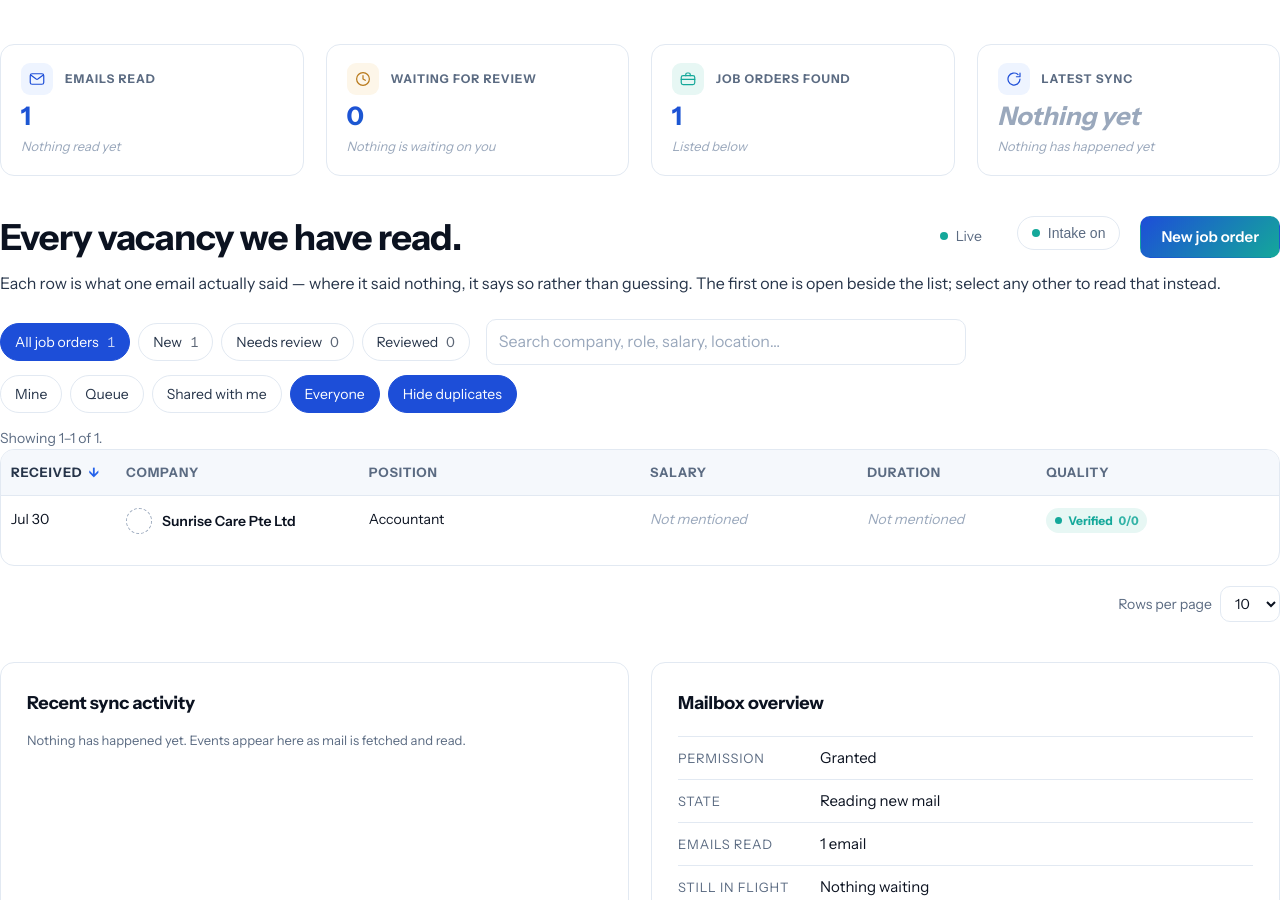
Test: linking a job order to its client › shows who the job order went to after linking
Click the button with aria-label "Show details for Sunrise Care Pte Ltd" at (229, 521), box left=162, top=510, right=296, bottom=532
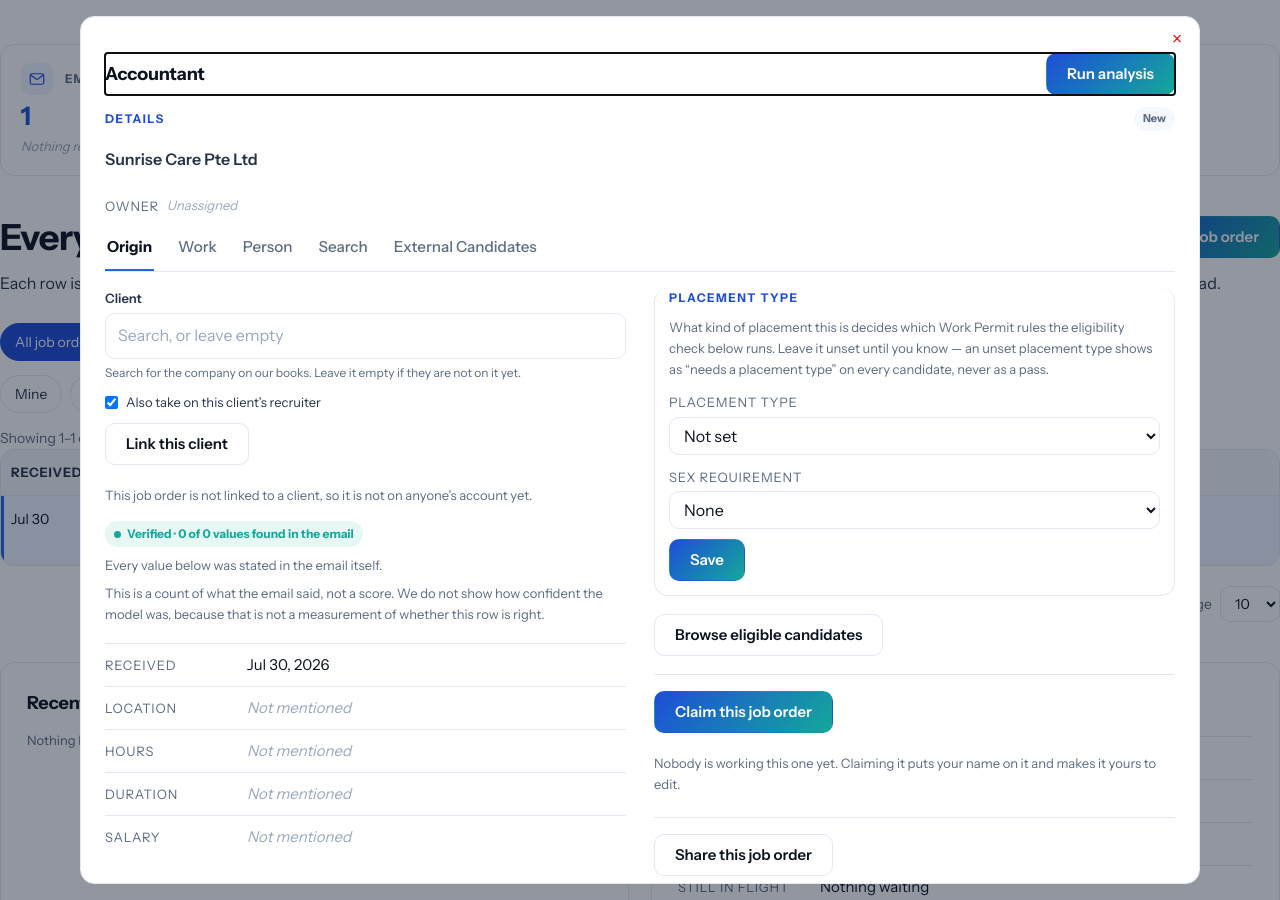
Type "sunrise" into the dropdown labelled "Client" at (366, 336), box left=105, top=313, right=626, bottom=359
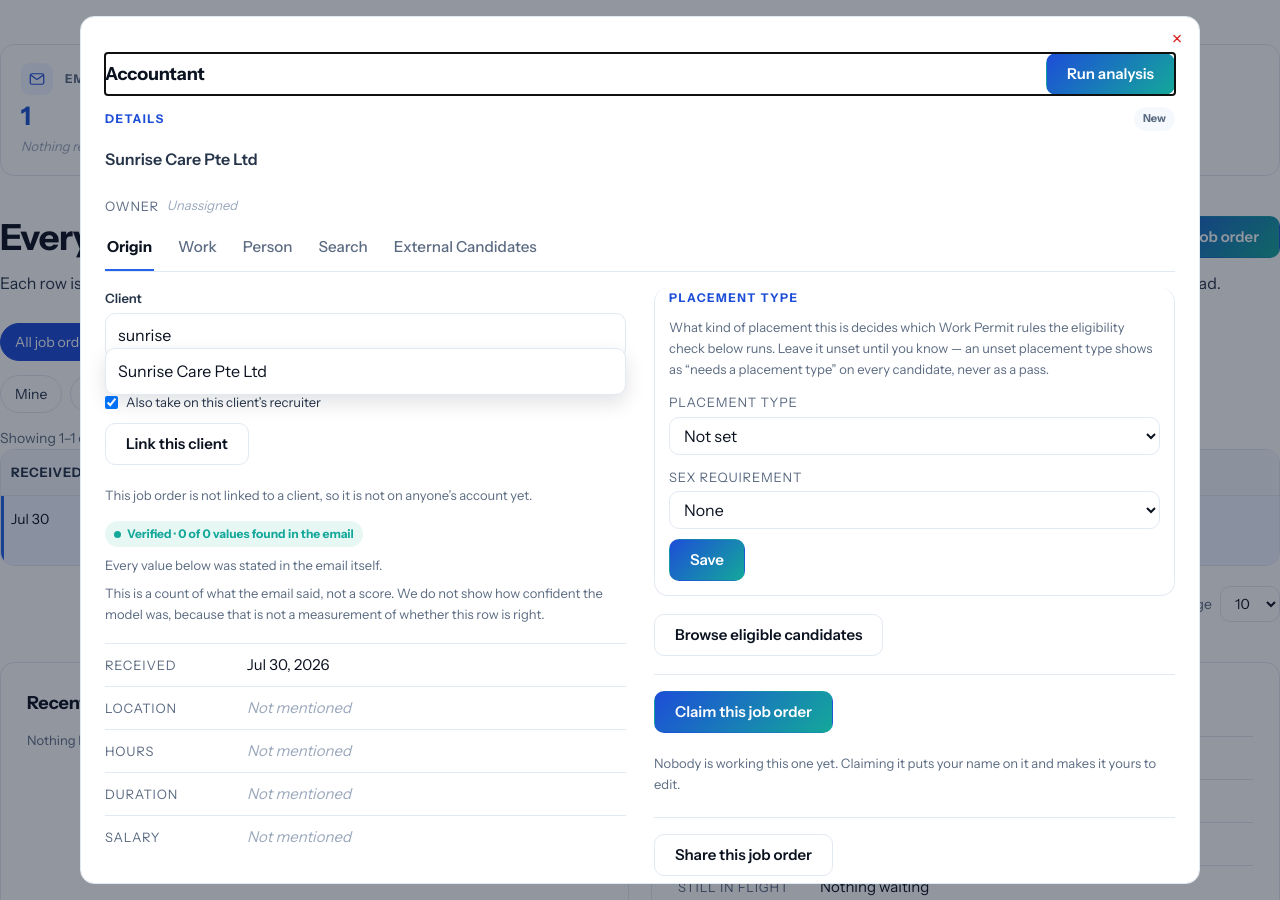
Click the option "Sunrise Care Pte Ltd" at (193, 371), box left=110, top=353, right=621, bottom=390
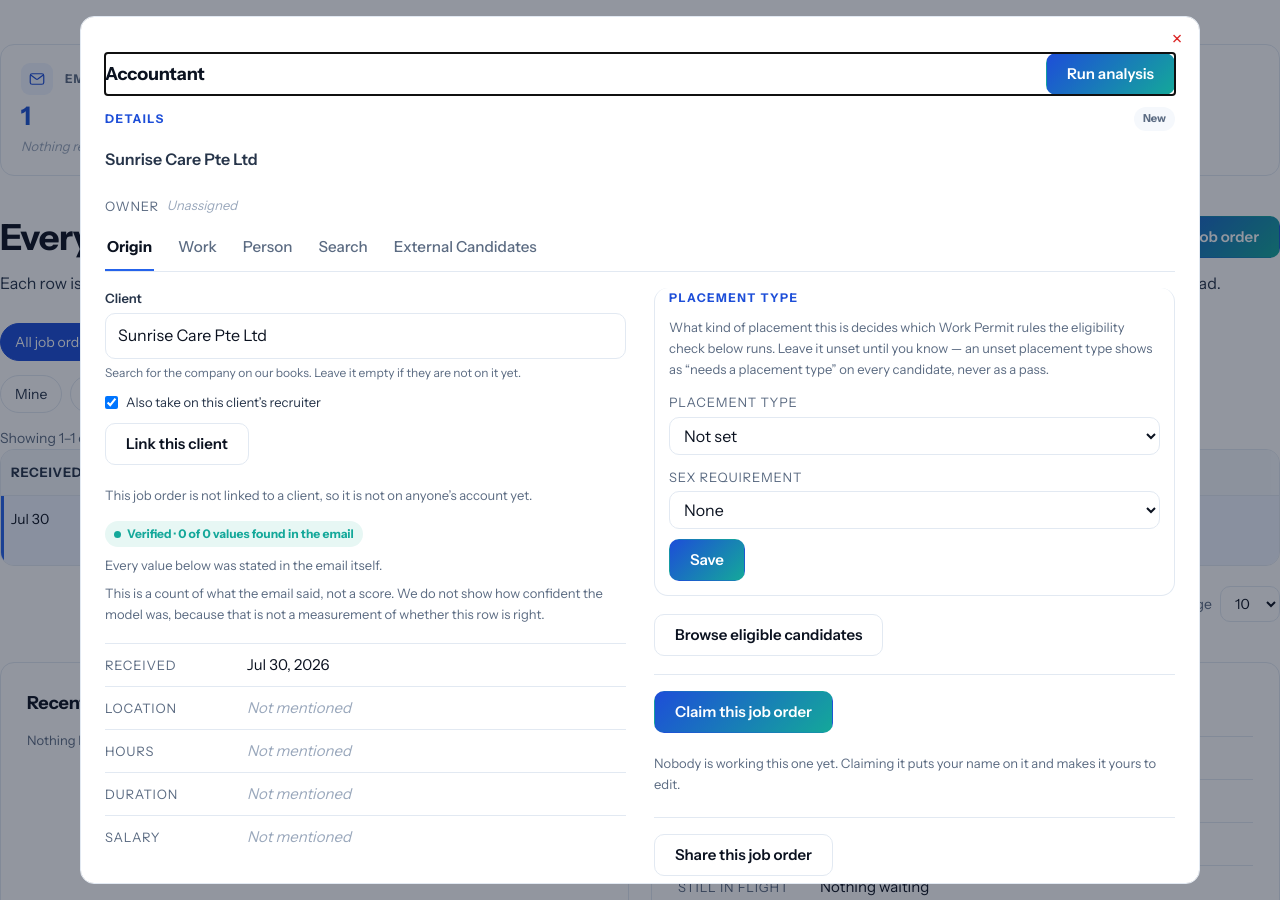
Click the button "Link this client" at (177, 444), box left=105, top=423, right=249, bottom=465
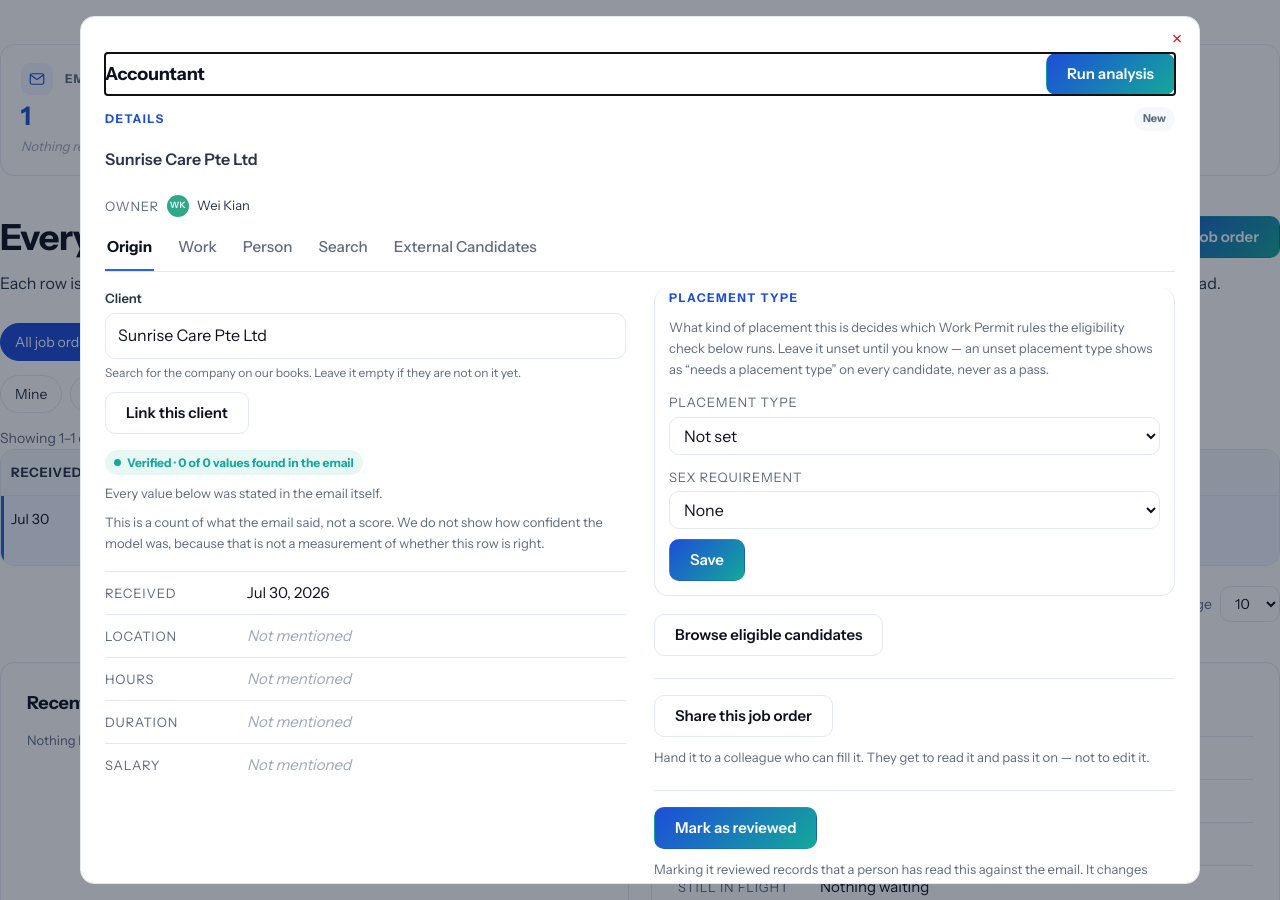
Now the element with test id "jo-detail-owner" shows "Wei Kian", box left=197, top=197, right=250, bottom=213
Now the text with test id "jo-detail-owner" no longer shows "Unassigned"
